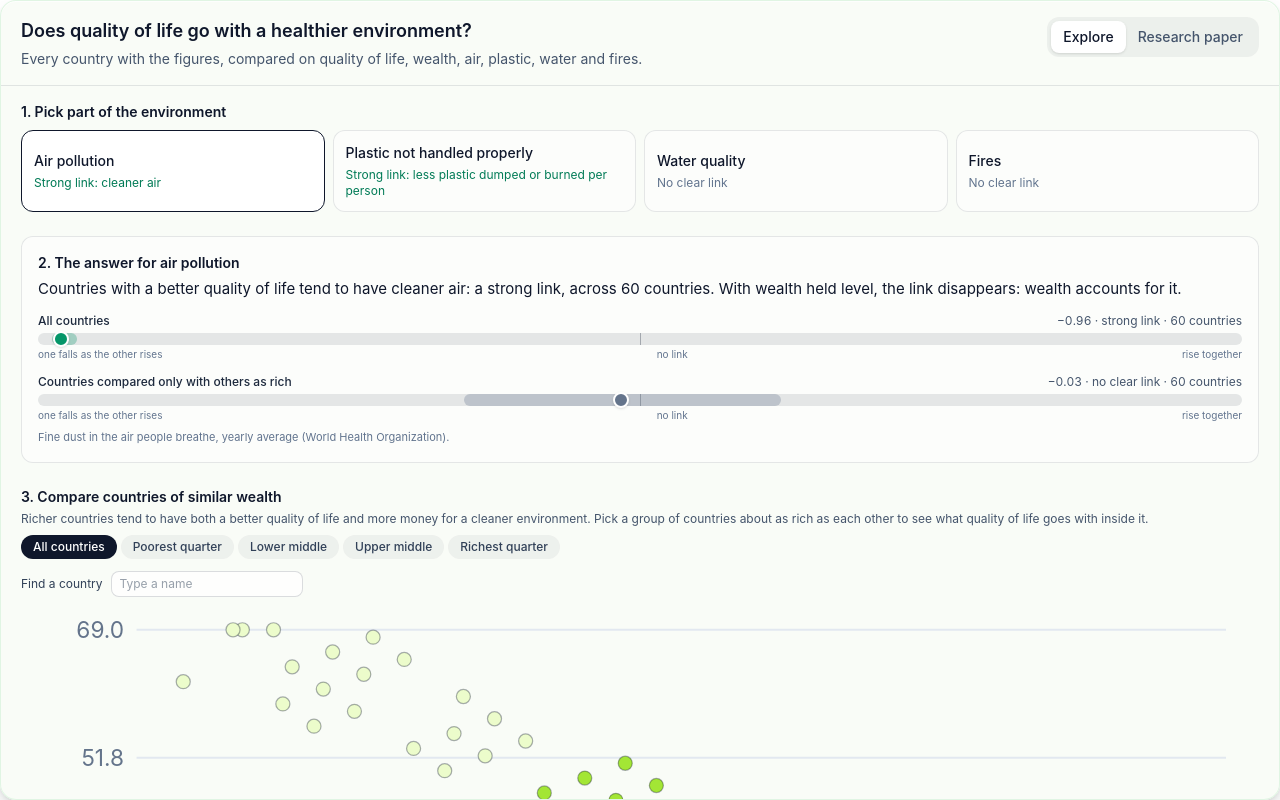
Findings — Research paper › switches to the formal write-up, with every section and its tables
Click the button "Research paper" at (1190, 37), box [1126,21,1255,53]
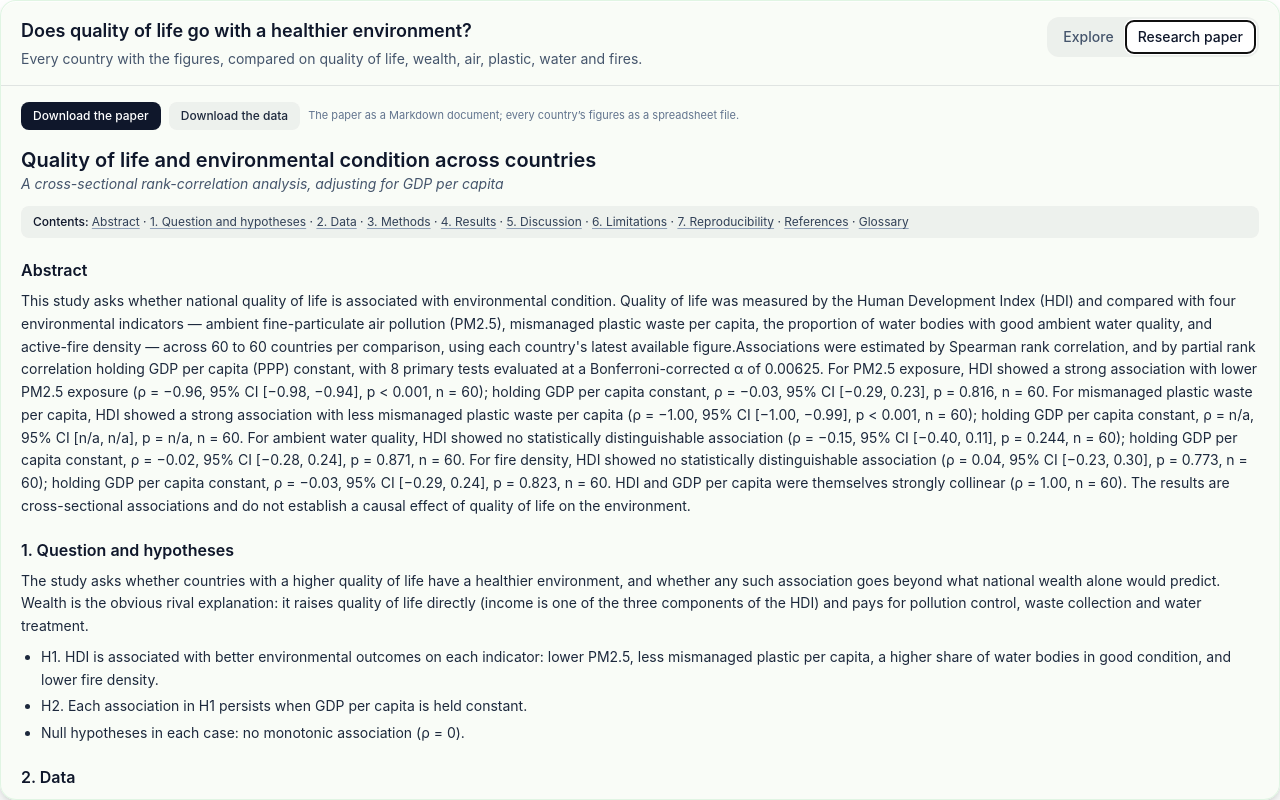
Check: the heading "Abstract" is shown, box [21,260,87,280]
Check: the heading "1. Question and hypotheses" is shown, box [21,540,234,560]
Check: the heading "2. Data" is shown, box [21,767,75,787]
